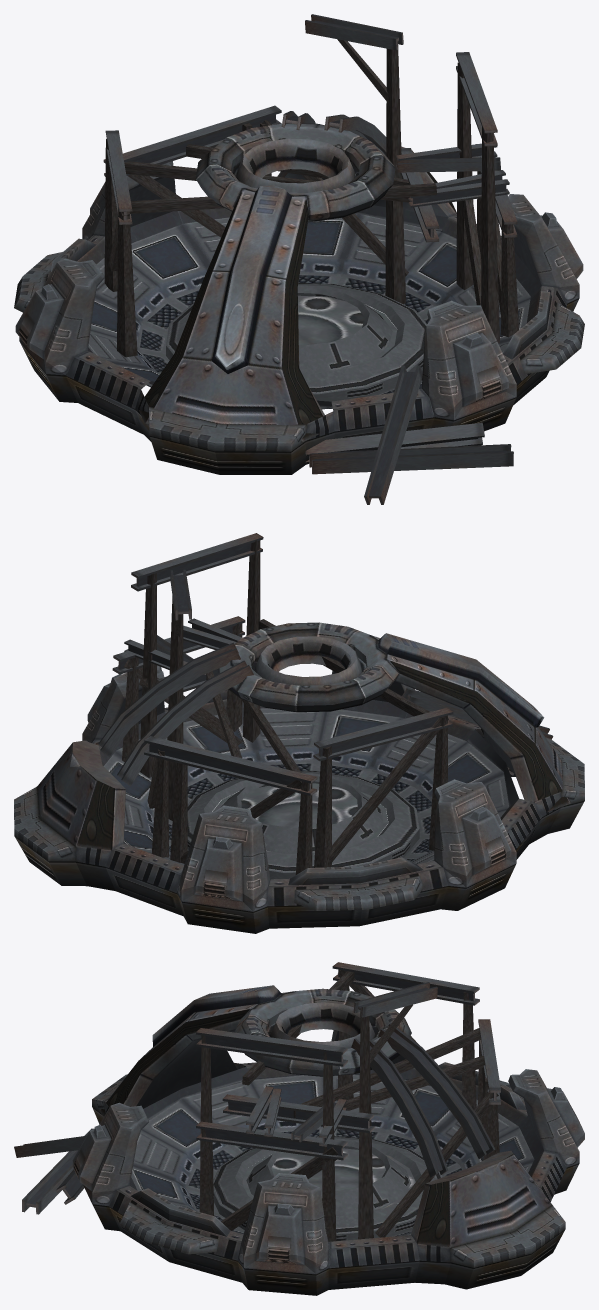
File: biodomehalfbuilt_00.fbx
3 views of the same model, one above another, from view 1: azimuth 30°, elevation 25°; view 2: azimuth 150°, elevation 25°; view 3: azimuth 270°, elevation 25° (orthographic). The views are drawn at different scales.
Visible parts, largest first — view 1: Geoset_1, Geoset_0; view 2: Geoset_1, Geoset_0; view 3: Geoset_1, Geoset_0.
Boxes of the visible parts, x1,y1,x2,y2 form: Geoset_1: (88, 14, 530, 504); Geoset_0: (14, 146, 584, 474); Geoset_1: (98, 533, 570, 879); Geoset_0: (14, 665, 584, 933); Geoset_1: (14, 962, 534, 1241); Geoset_0: (72, 1030, 584, 1295).
Bounding box in the file's own units: 6.6 × 3.63 × 7.35.
Materials: 1 (1 with a texture image).
